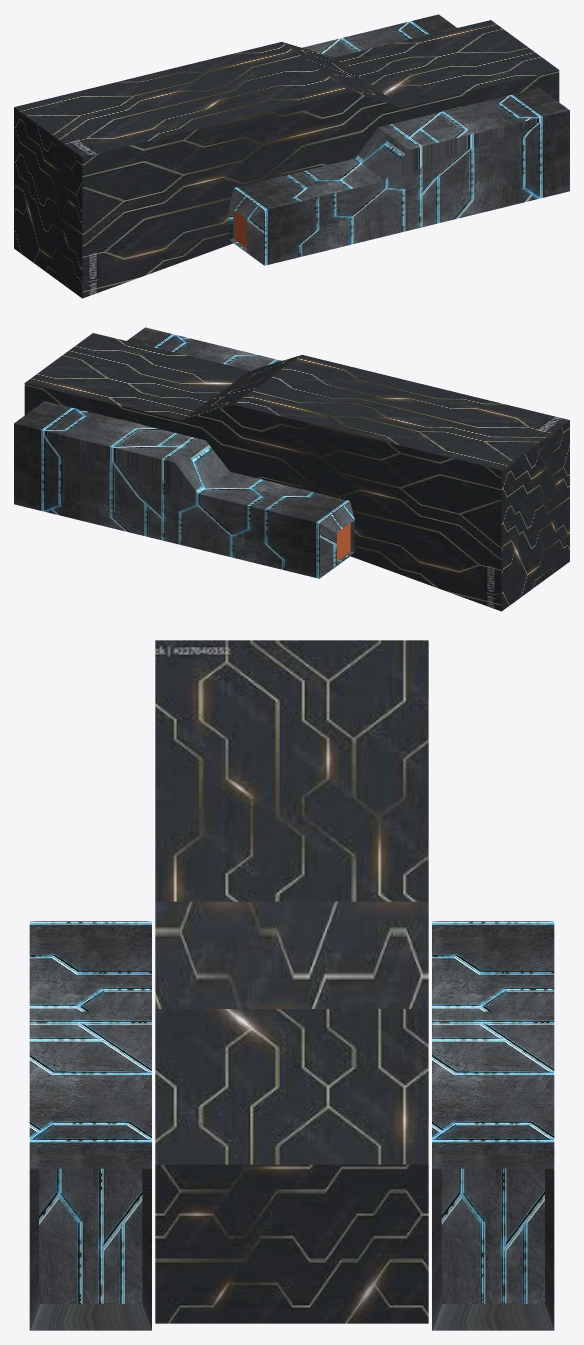
File: smallShip.glb
3 renders of one model, top to bottom at view 1: azimuth 30°, elevation 25°; view 2: azimuth 150°, elevation 25°; view 3: azimuth 270°, elevation 25°, orthographic. The views are drawn at different scales.
Parts seen in each view (by area): view 1: Cube.001, Cube; view 2: Cube.001, Cube; view 3: Cube.001, Cube.
Part boxes in pixels (left/top/right/bottom): Cube.001: left=14, top=20, right=559, bottom=298; Cube: left=229, top=14, right=569, bottom=265; Cube.001: left=24, top=333, right=569, bottom=611; Cube: left=14, top=327, right=354, bottom=578; Cube.001: left=155, top=640, right=428, bottom=1323; Cube: left=29, top=921, right=554, bottom=1330.
Bounding box in the file's own units: 8.8 × 2.49 × 4.19.
3 materials, 2 textured.
